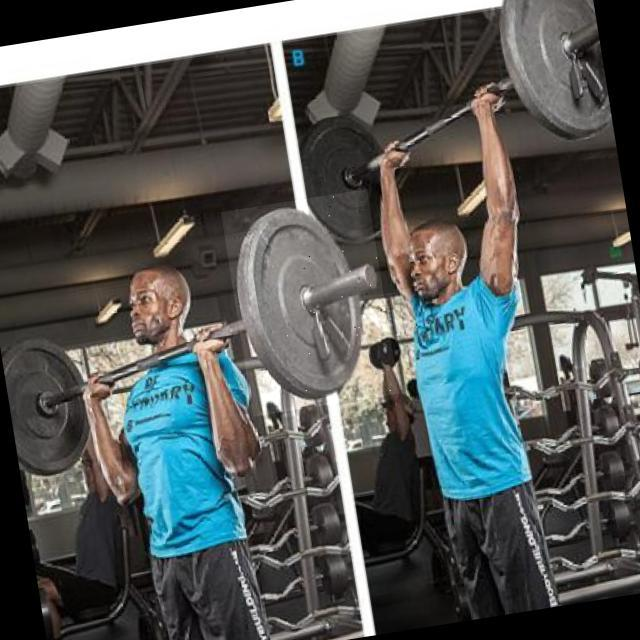barbell: (222, 190, 401, 418)
